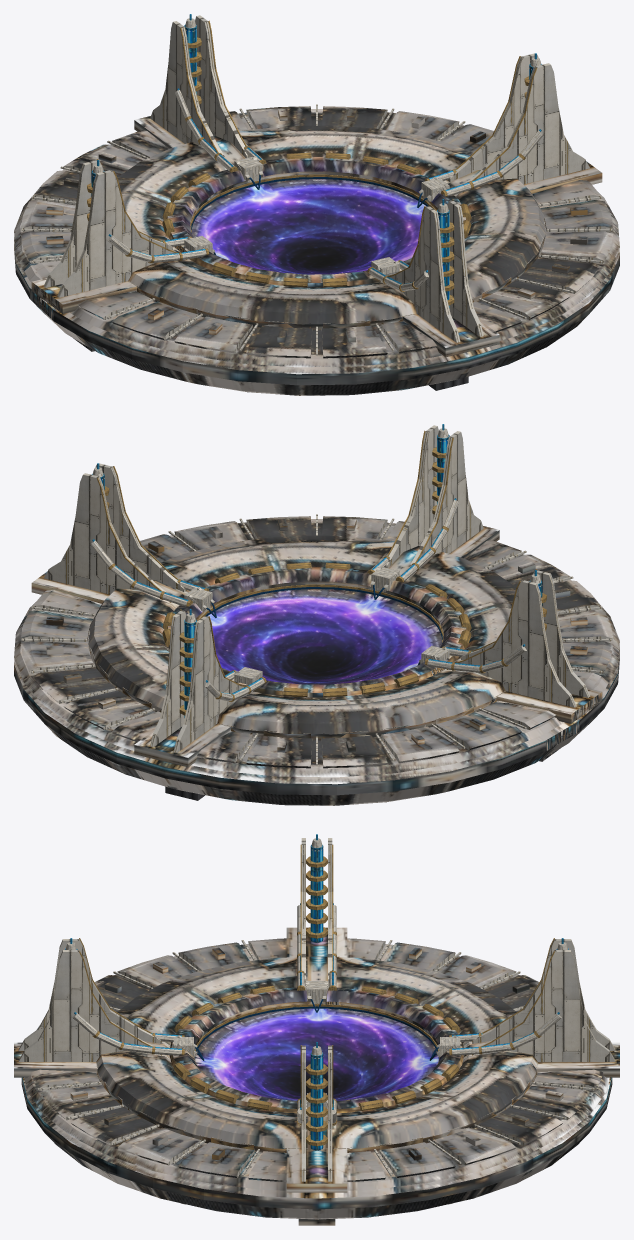
The model's file is authority-nexus.obj.
The picture shows the model from 3 angles, top to bottom: view 1: azimuth 30°, elevation 25°; view 2: azimuth 150°, elevation 25°; view 3: azimuth 270°, elevation 25°; orthographic projection. The views are drawn at different scales.
Visible parts, largest first — view 1: hull.inner-hall, wormhole.energy-membrane, hull.load-bearing-annulus, hull.outer-terrace, containment.machine-collar, stabilizer-3.right-shell, stabilizer-1.left-shell, stabilizer-4.left-shell, stabilizer-2.right-shell, stabilizer-2.left-shell, stabilizer-1.right-shell, stabilizer-4.right-shell (+29 smaller); view 2: hull.inner-hall, wormhole.energy-membrane, hull.load-bearing-annulus, hull.outer-terrace, containment.machine-collar, stabilizer-3.left-shell, stabilizer-1.right-shell, stabilizer-2.right-shell, stabilizer-4.left-shell, stabilizer-4.right-shell, stabilizer-1.left-shell, stabilizer-2.left-shell (+29 smaller); view 3: hull.inner-hall, wormhole.energy-membrane, hull.load-bearing-annulus, containment.machine-collar, hull.outer-terrace, stabilizer-2.left-shell, stabilizer-4.right-shell, stabilizer-1.foundation, dock.terrace.21, dock.terrace.2, dock.terrace.1, dock.terrace.22 (+29 smaller).
Boxes of the visible parts, x1,y1,x2,y2 form: hull.inner-hall: [117, 125, 545, 330]; wormhole.energy-membrane: [191, 179, 426, 274]; hull.load-bearing-annulus: [14, 237, 619, 395]; hull.outer-terrace: [14, 109, 619, 367]; containment.machine-collar: [166, 156, 466, 287]; stabilizer-3.right-shell: [57, 170, 185, 297]; stabilizer-1.left-shell: [467, 63, 589, 184]; stabilizer-4.left-shell: [390, 206, 460, 342]; stabilizer-2.right-shell: [150, 21, 224, 157]; stabilizer-2.left-shell: [195, 15, 249, 157]; stabilizer-1.right-shell: [447, 53, 538, 181]; stabilizer-4.right-shell: [447, 200, 483, 336]; hull.inner-hall: [88, 535, 516, 740]; wormhole.energy-membrane: [207, 589, 442, 684]; hull.load-bearing-annulus: [14, 647, 619, 805]; hull.outer-terrace: [14, 519, 619, 777]; containment.machine-collar: [167, 567, 467, 697]; stabilizer-3.left-shell: [448, 580, 576, 707]; stabilizer-1.right-shell: [44, 473, 166, 594]; stabilizer-2.right-shell: [173, 616, 243, 752]; stabilizer-4.left-shell: [409, 431, 483, 567]; stabilizer-4.right-shell: [384, 425, 438, 567]; stabilizer-1.left-shell: [95, 463, 186, 591]; stabilizer-2.left-shell: [150, 610, 186, 746]; hull.inner-hall: [96, 956, 537, 1152]; wormhole.energy-membrane: [195, 1008, 438, 1100]; hull.load-bearing-annulus: [21, 1077, 612, 1219]; containment.machine-collar: [169, 987, 464, 1113]; hull.outer-terrace: [24, 944, 609, 1190]; stabilizer-2.left-shell: [473, 950, 615, 1061]; stabilizer-4.right-shell: [18, 950, 160, 1061]; stabilizer-1.foundation: [286, 1148, 347, 1192]; dock.terrace.21: [117, 1127, 201, 1165]; dock.terrace.2: [432, 1127, 516, 1165]; dock.terrace.1: [379, 1142, 455, 1177]; dock.terrace.22: [178, 1142, 254, 1177].
Size of the model in its own units: 19.8 by 6.34 by 19.8.
9 materials, 8 textured.
